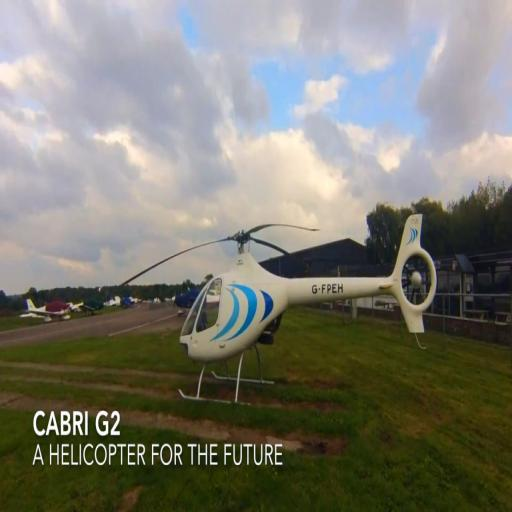helicopter: (110, 217, 441, 400)
